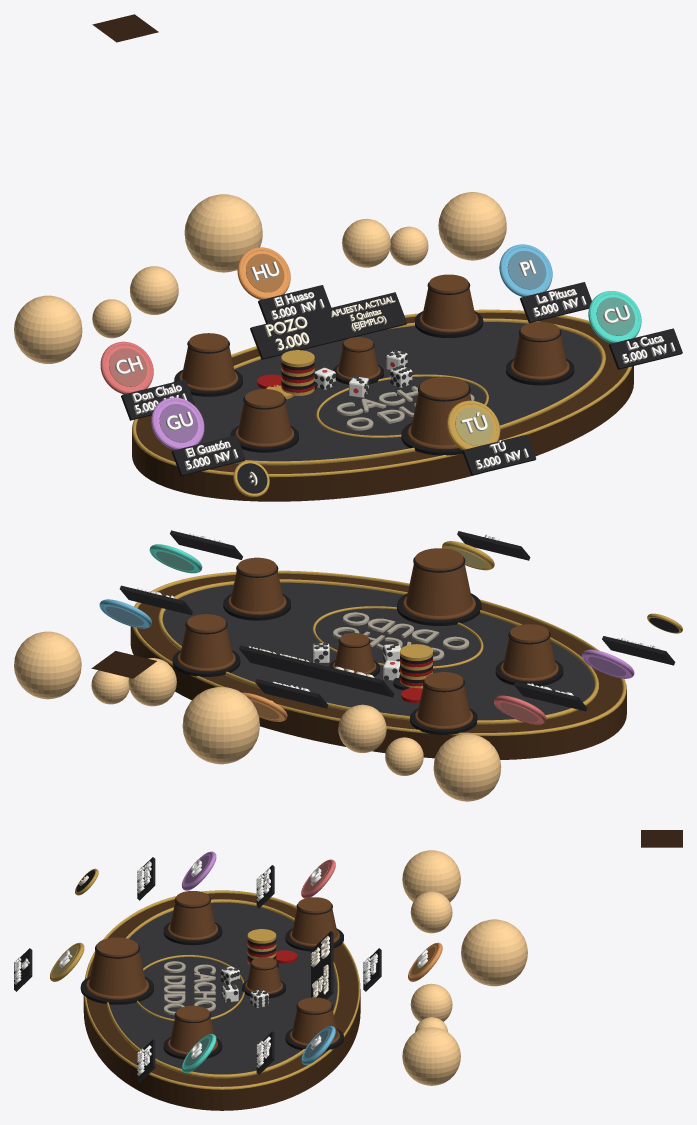
Rendered from mesa_cacho.fbx.
The picture shows the model from 3 angles, top to bottom: view 1: azimuth 30°, elevation 25°; view 2: azimuth 150°, elevation 25°; view 3: azimuth 270°, elevation 25°; orthographic projection. The views are drawn at different scales.
Parts seen in each view (by area): view 1: Pano, MesaMadera, Lampara2, PlacaPozo, Lampara0, Lampara4, Vaso_TU, Vaso_LaCuca, Vaso_ElGuaton, Vaso_LaPituca, Vaso_DonChalo, FileteDoradoPano (+23 smaller); view 2: Pano, MesaMadera, Lampara2, Lampara4, Lampara0, Vaso_TU, FileteDoradoBorde, FileteDoradoPano, Vaso_LaCuca, Vaso_DonChalo, Vaso_ElGuaton, Vaso_LaPituca (+27 smaller); view 3: Pano, MesaMadera, Lampara2, Lampara4, Vaso_TU, Lampara0, FileteDoradoBorde, Vaso_ElGuaton, Vaso_DonChalo, FileteDoradoPano, LogoCachoODudo, Vaso_LaPituca (+8 smaller).
Part boxes in pixels (x1,y1,x2,y2): Pano: (192,322,601,461); MesaMadera: (132,313,633,501); Lampara2: (184,194,262,272); PlacaPozo: (250,292,407,359); Lampara0: (14,295,82,363); Lampara4: (438,192,506,260); Vaso_TU: (410,376,471,445); Vaso_LaCuca: (513,322,566,376); Vaso_ElGuaton: (238,389,291,443); Vaso_LaPituca: (422,274,475,329); Vaso_DonChalo: (182,333,235,387); FileteDoradoPano: (233,318,605,465); Pano: (162,582,594,720); MesaMadera: (130,573,626,759); Lampara2: (182,687,259,764); Lampara4: (14,631,81,699); Lampara0: (433,734,501,801); Vaso_TU: (406,548,472,615); FileteDoradoBorde: (132,570,626,735); FileteDoradoPano: (158,579,598,724); Vaso_LaCuca: (230,557,283,611); Vaso_DonChalo: (417,672,470,725); Vaso_ElGuaton: (503,624,555,677); Vaso_LaPituca: (180,614,232,667); Pano: (109,902,336,1074); MesaMadera: (83,893,360,1110); Lampara2: (461,919,527,986); Lampara4: (402,1027,460,1085); Vaso_TU: (88,937,145,995); Lampara0: (402,850,460,902); FileteDoradoBorde: (84,890,360,1089); Vaso_ElGuaton: (170,891,215,937); Vaso_DonChalo: (291,897,337,943); FileteDoradoPano: (106,899,339,1078); LogoCachoODudo: (164,961,215,1015); Vaso_LaPituca: (291,997,337,1043).
Size of what is drawn, in the model's own units: 1180 by 455 by 1597.
